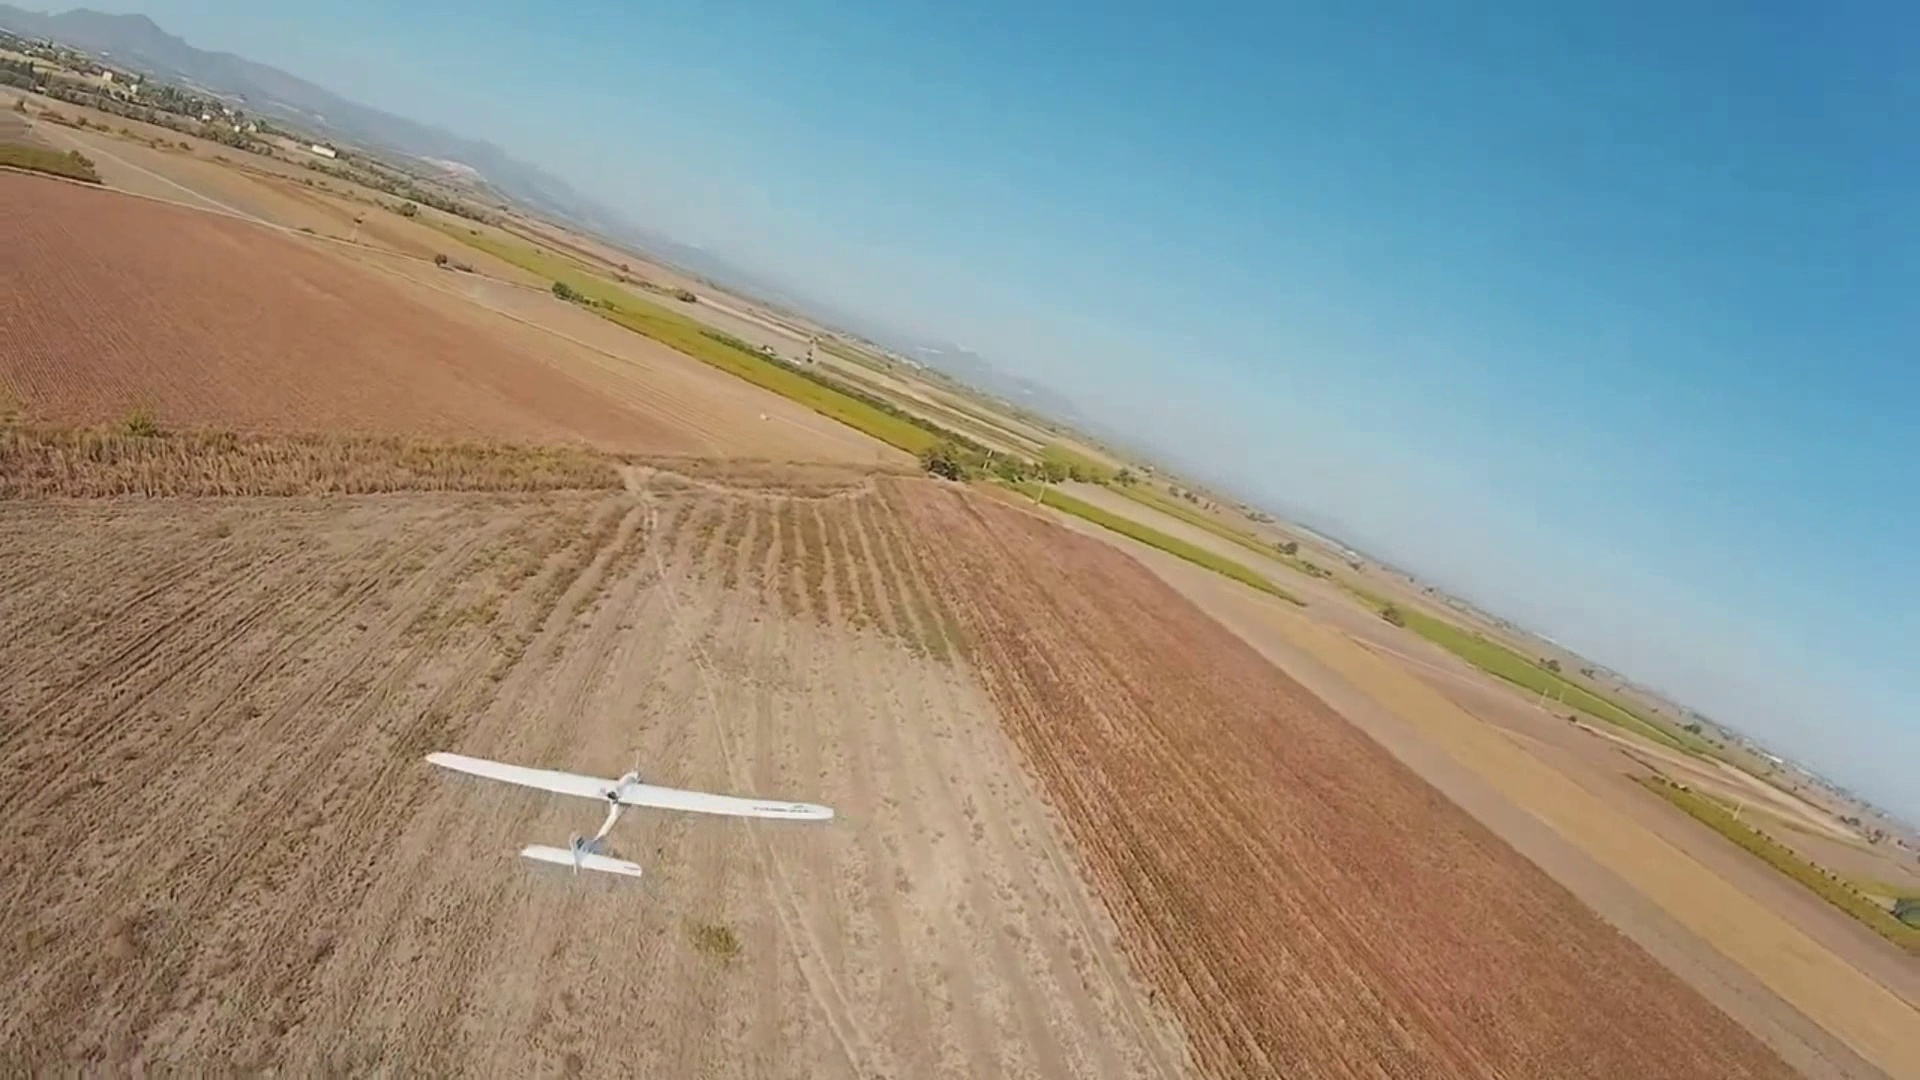airplane: (425, 749, 841, 877)
